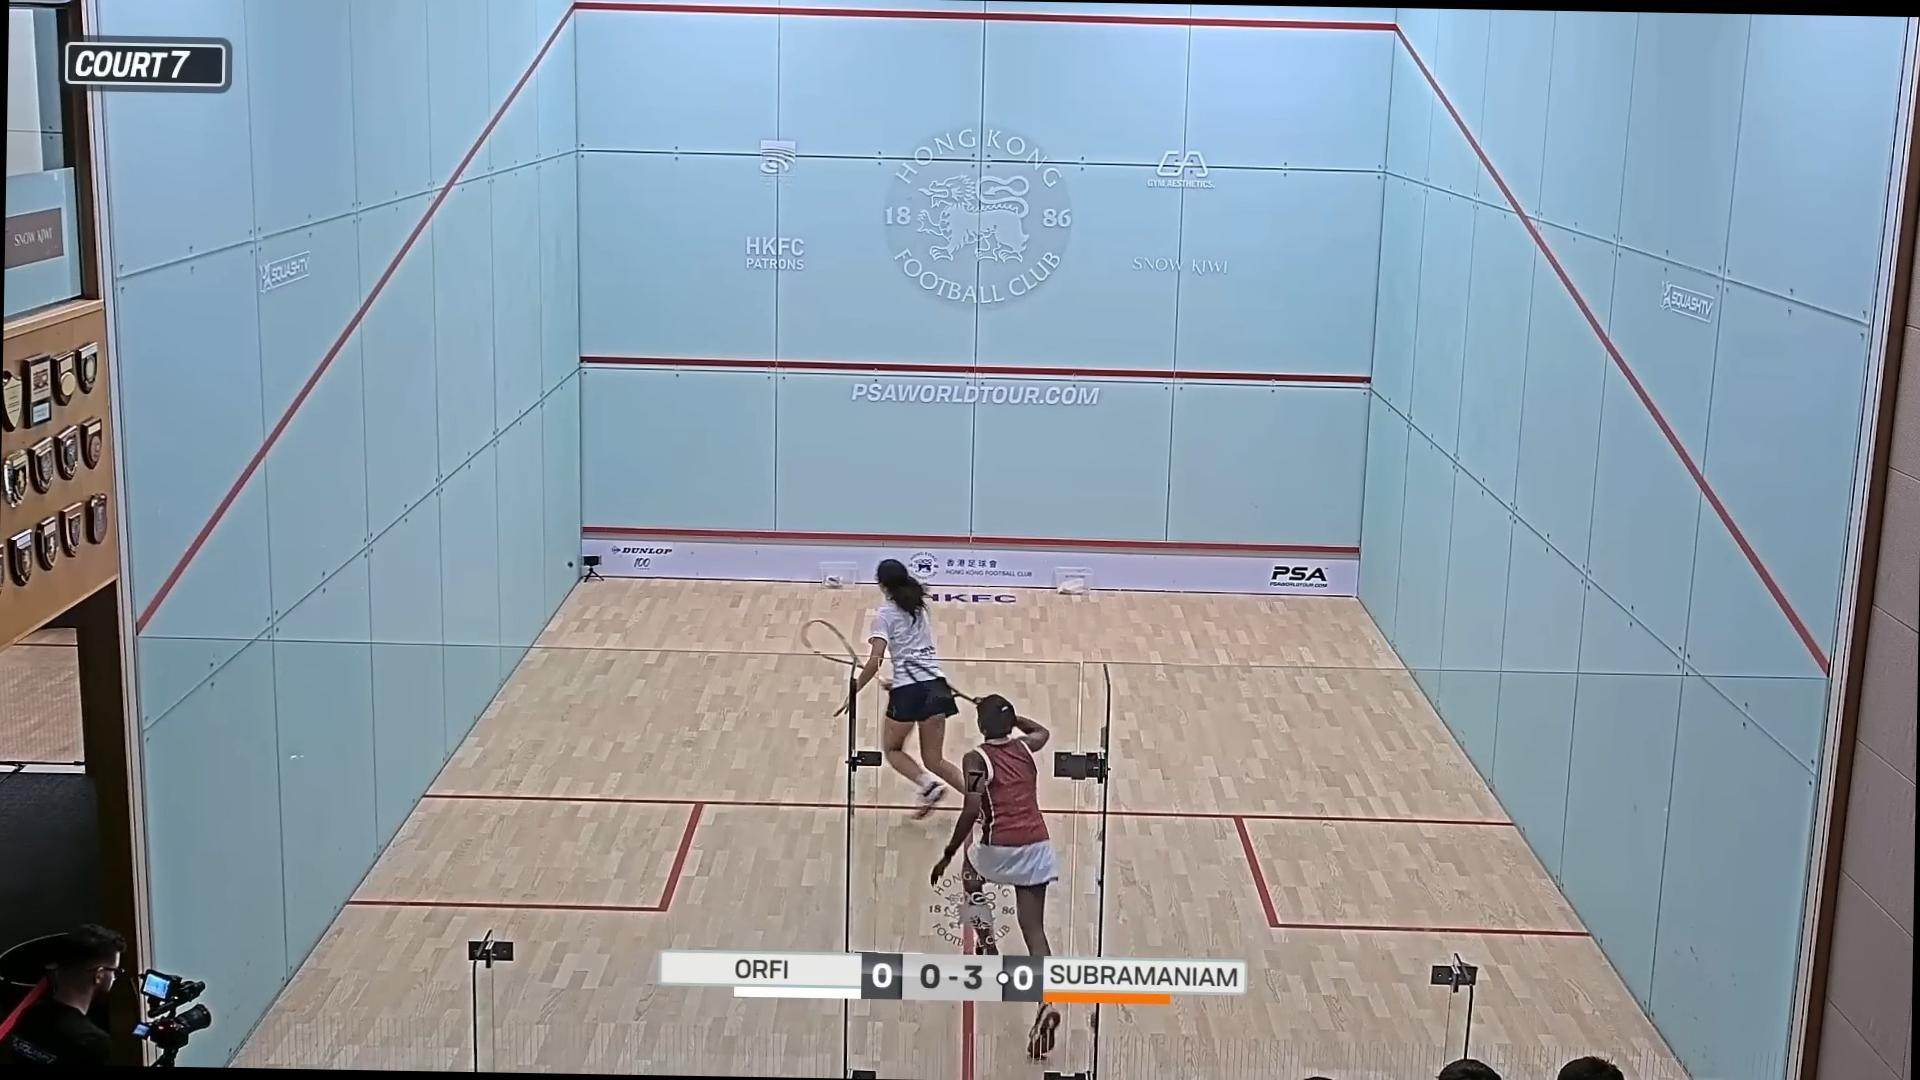Squash-Ball: (560, 550, 584, 576)
